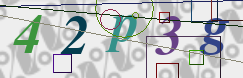2: (60, 15, 87, 54)
3: (155, 15, 182, 56)
4: (13, 14, 42, 54)
g: (199, 17, 230, 56)
p: (105, 14, 138, 53)
